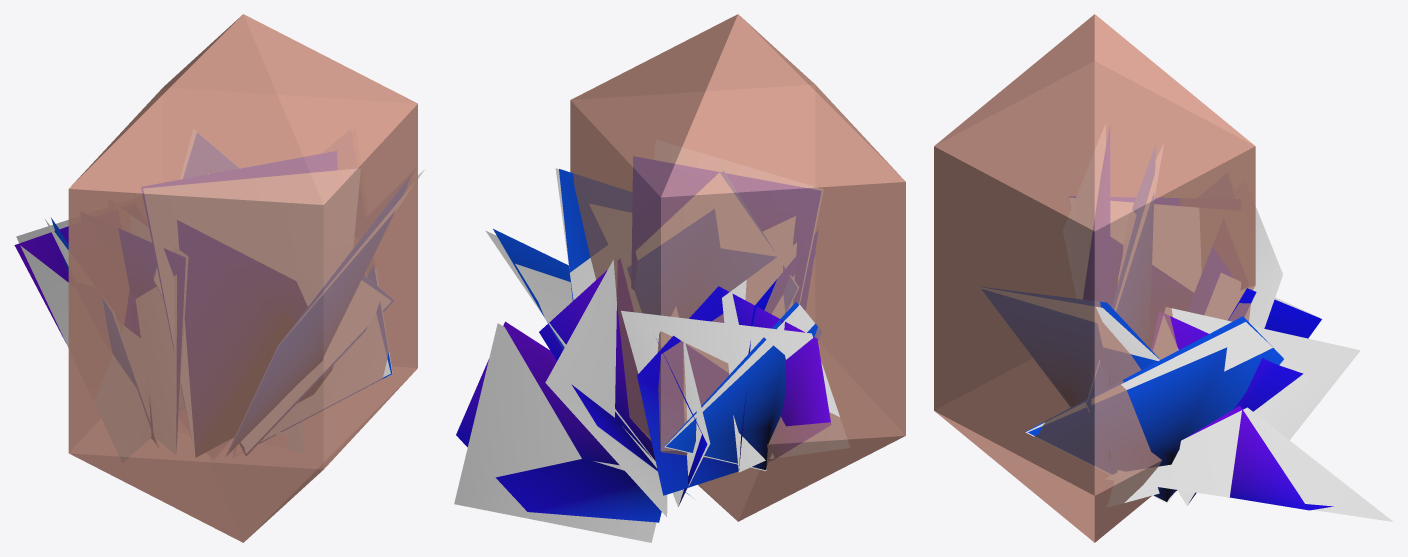
The model's file is Juniper_bush_small_01.dae.
The picture shows the model from 3 angles, left to right: view 1: azimuth 30°, elevation 25°; view 2: azimuth 150°, elevation 25°; view 3: azimuth 270°, elevation 25°; orthographic projection. The views are drawn at different scales.
Visible parts, largest first — view 1: Colmesh-1, Juniper_medium_01_a80, Juniper_medium_01_a150; view 2: Colmesh-1, Juniper_medium_01_a150, Juniper_medium_01_a80; view 3: Colmesh-1, Juniper_medium_01_a150, Juniper_medium_01_a80.
Part boxes in pixels (x1,y1,x2,y2): Colmesh-1: (68,14,417,542); Juniper_medium_01_a80: (16,129,424,462); Juniper_medium_01_a150: (14,133,408,456); Colmesh-1: (570,14,905,521); Juniper_medium_01_a150: (456,157,830,522); Juniper_medium_01_a80: (454,140,849,542); Colmesh-1: (934,14,1255,542); Juniper_medium_01_a150: (982,129,1333,510); Juniper_medium_01_a80: (979,127,1393,521).
Size of the model in its own units: 1.43 by 1.58 by 2.
